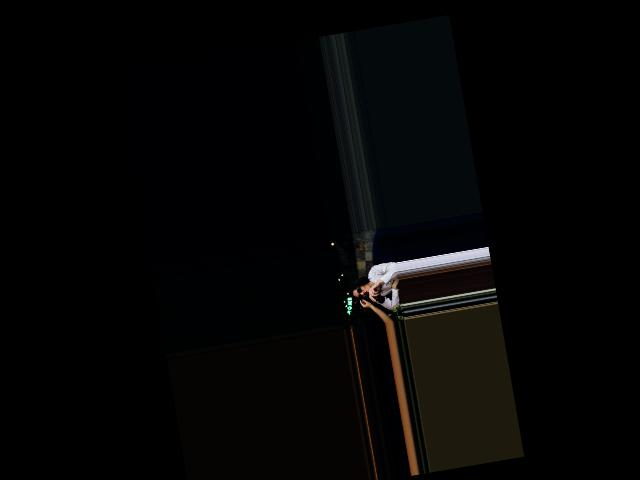beer: (364, 289, 386, 307)
